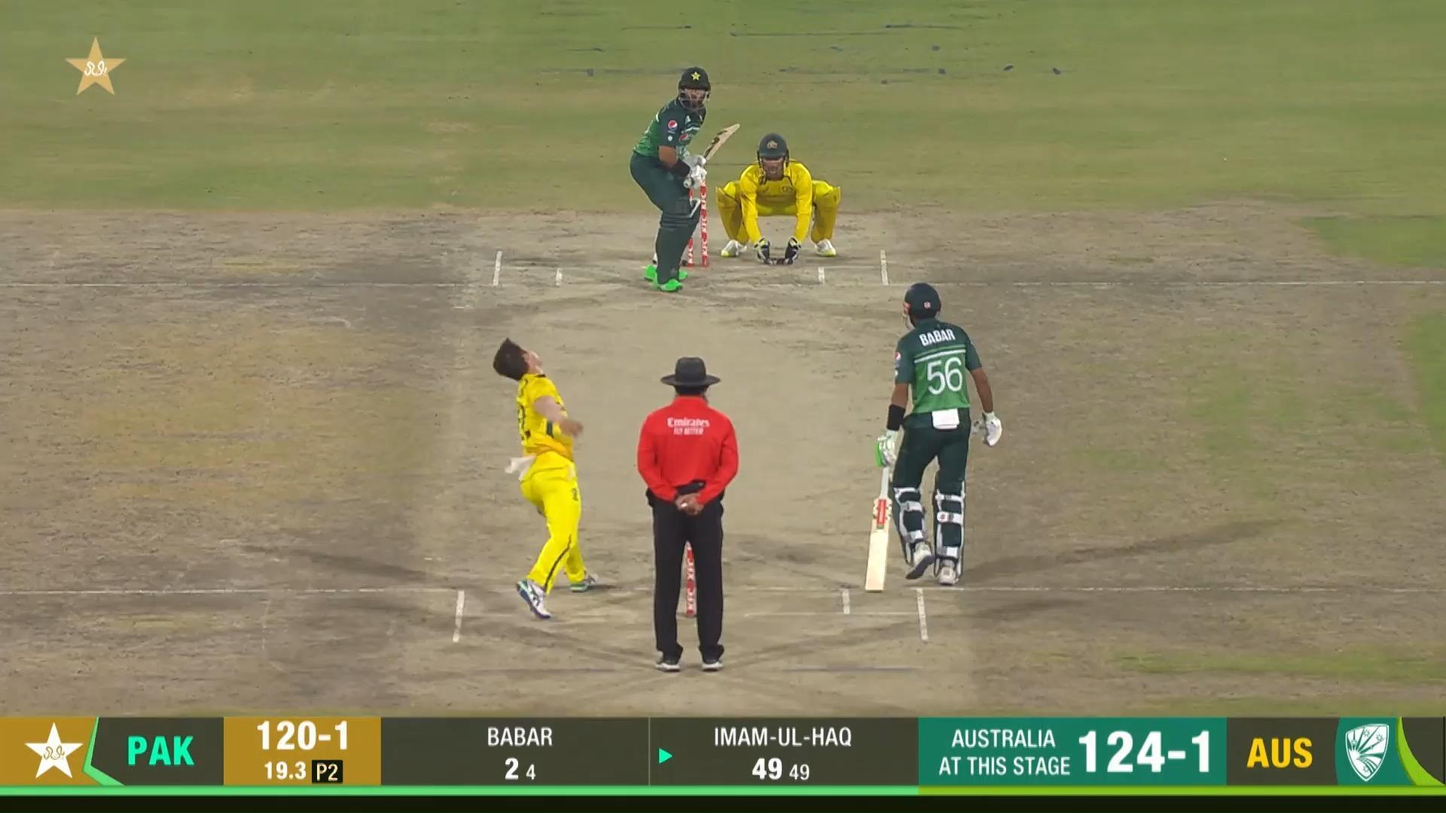BM 1: (629, 66, 741, 294)
BO: (491, 334, 620, 619)
